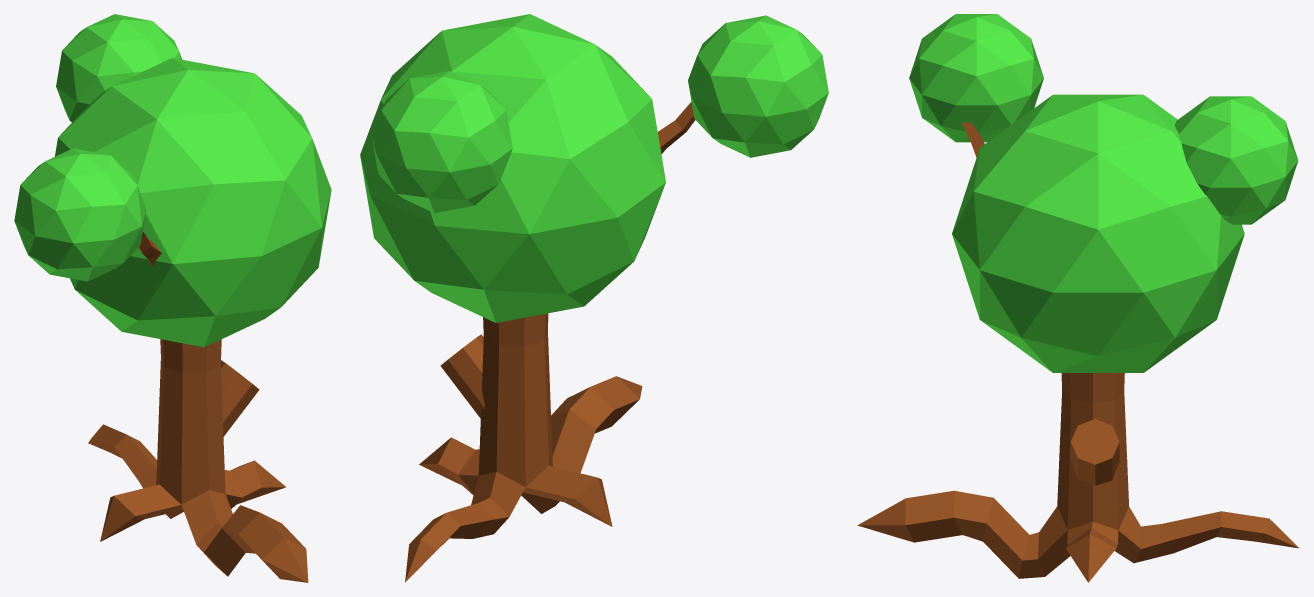
Rendered from LowpoliArvore1.fbx.
The picture shows the model from 3 angles, left to right: view 1: azimuth 30°, elevation 25°; view 2: azimuth 150°, elevation 25°; view 3: azimuth 270°, elevation 25°; orthographic projection. The views are drawn at different scales.
Visible parts, largest first — view 1: Icosphere.001, Cylinder.007, Icosphere.003, Icosphere.002; view 2: Icosphere.001, Cylinder.007, Icosphere.003, Icosphere.002, Cube.014; view 3: Icosphere.001, Cylinder.007, Icosphere.003, Icosphere.002.
Boxes of the visible parts, x1,y1,x2,y2 form: Icosphere.001: (55, 58, 331, 347); Cylinder.007: (88, 339, 308, 582); Icosphere.003: (14, 148, 146, 281); Icosphere.002: (56, 14, 182, 122); Icosphere.001: (360, 14, 665, 322); Cylinder.007: (405, 313, 642, 582); Icosphere.003: (688, 15, 828, 157); Icosphere.002: (372, 71, 512, 213); Cube.014: (657, 102, 694, 154); Icosphere.001: (952, 94, 1244, 372); Cylinder.007: (857, 373, 1299, 582); Icosphere.003: (909, 14, 1043, 142); Icosphere.002: (1175, 96, 1298, 224).
Bounding box in the file's own units: 1108 × 1472 × 1231.
